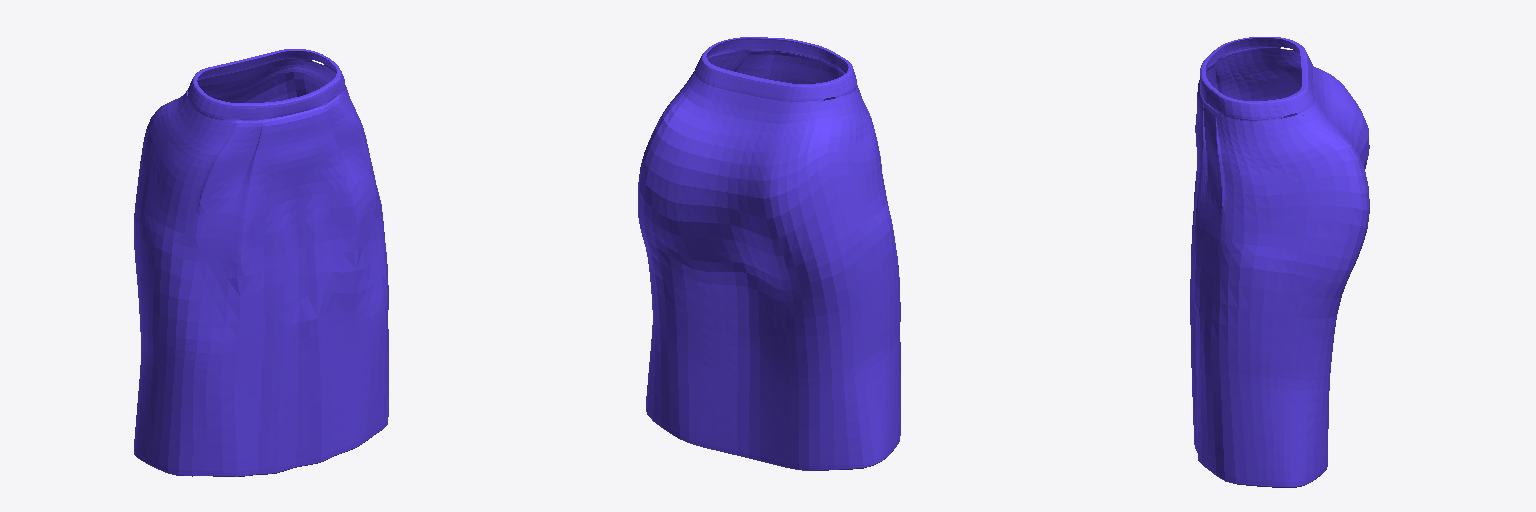
The model's file is baotunqun5.obj.
3 renders of one model, left to right at view 1: azimuth 30°, elevation 25°; view 2: azimuth 150°, elevation 25°; view 3: azimuth 270°, elevation 25°, orthographic.
Parts seen in each view (by area): view 1: file; view 2: file; view 3: file.
Part boxes in pixels (left/top/right/bottom): file: left=134, top=49, right=388, bottom=476; file: left=638, top=37, right=900, bottom=470; file: left=1190, top=37, right=1369, bottom=487.
Bounding box in the file's own units: 3.43 × 5.27 × 2.28.